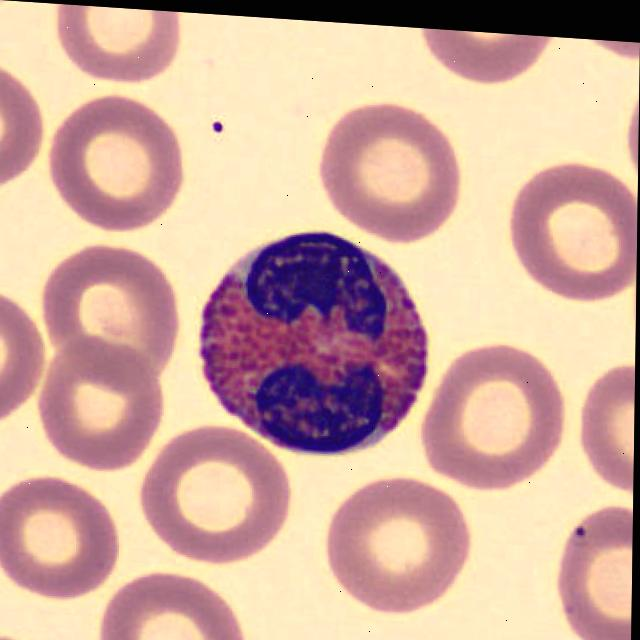eosinophil: (178, 220, 442, 467)
rbc: (313, 463, 468, 620), (138, 416, 292, 574), (419, 336, 568, 493), (498, 154, 638, 310), (43, 241, 187, 387), (323, 96, 464, 245), (51, 87, 184, 236), (35, 330, 164, 475), (0, 471, 122, 604), (47, 3, 193, 89), (93, 567, 253, 640), (551, 499, 633, 640), (412, 28, 549, 88), (580, 352, 635, 493), (0, 280, 52, 418), (0, 55, 46, 202), (618, 91, 639, 176), (583, 39, 640, 66)
